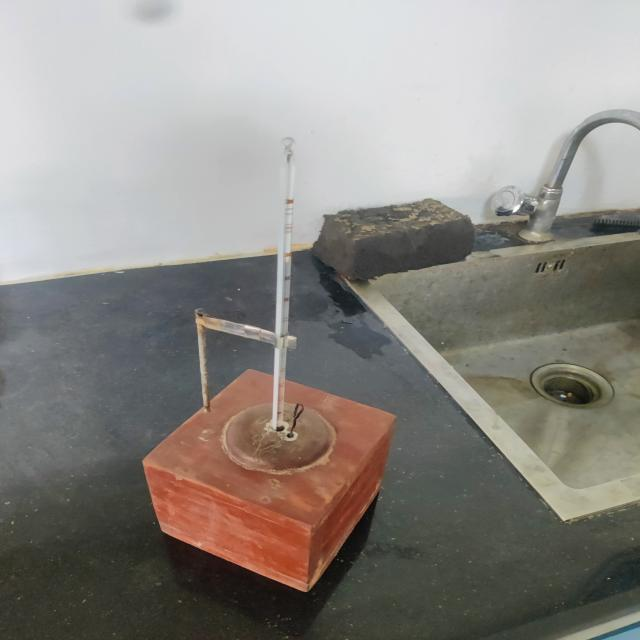Calorimeter: (99, 120, 425, 609)
